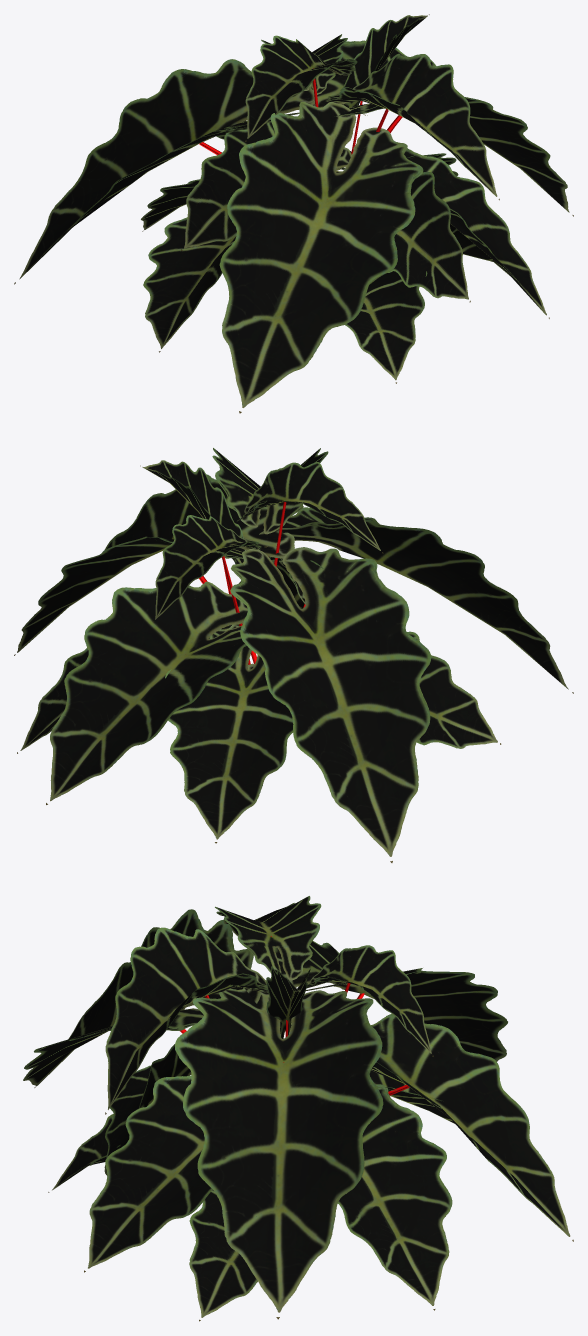
Rendered from DarkPalm_Big_2018.FBX.
The picture shows the model from 3 angles, top to bottom: view 1: azimuth 30°, elevation 25°; view 2: azimuth 150°, elevation 25°; view 3: azimuth 270°, elevation 25°; orthographic projection. The views are drawn at different scales.
Visible parts, largest first — view 1: DarkPalmBig_Leafs_LOD0, DarkPalmBig_Sticks_LOD0; view 2: DarkPalmBig_Leafs_LOD0, DarkPalmBig_Sticks_LOD0; view 3: DarkPalmBig_Leafs_LOD0.
Boxes of the visible parts, bbox=[...] form: DarkPalmBig_Leafs_LOD0: bbox=[14, 14, 573, 413]; DarkPalmBig_Sticks_LOD0: bbox=[199, 68, 402, 155]; DarkPalmBig_Leafs_LOD0: bbox=[14, 448, 573, 862]; DarkPalmBig_Sticks_LOD0: bbox=[199, 502, 305, 664]; DarkPalmBig_Leafs_LOD0: bbox=[23, 896, 573, 1321].
Size of what is drawn, in the model's own units: 59.82 by 34.74 by 55.67.
